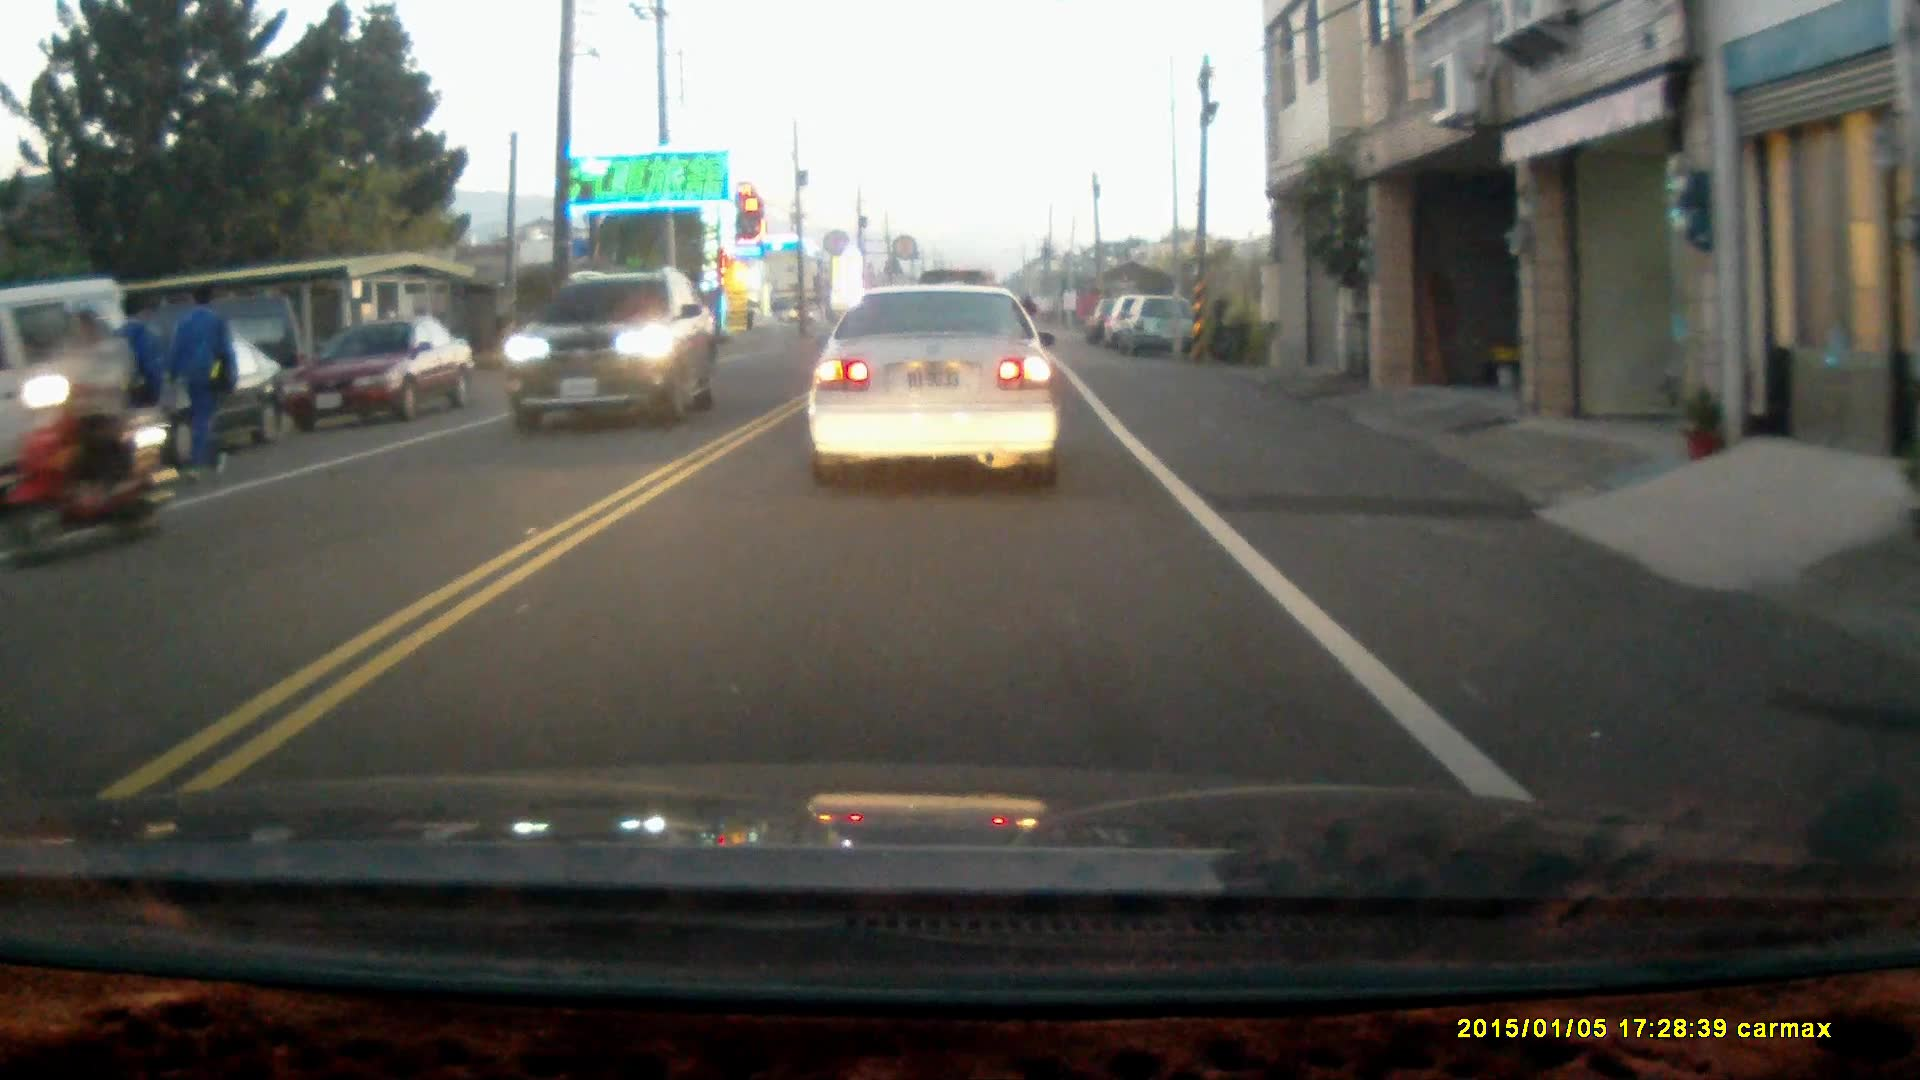pedestrian: (94, 288, 167, 495), (166, 282, 237, 485)
rider: (13, 298, 168, 566)
vehicle: (803, 283, 1064, 494), (1, 272, 166, 519), (46, 317, 297, 471), (504, 266, 718, 437), (296, 314, 478, 434), (1117, 294, 1201, 360)
